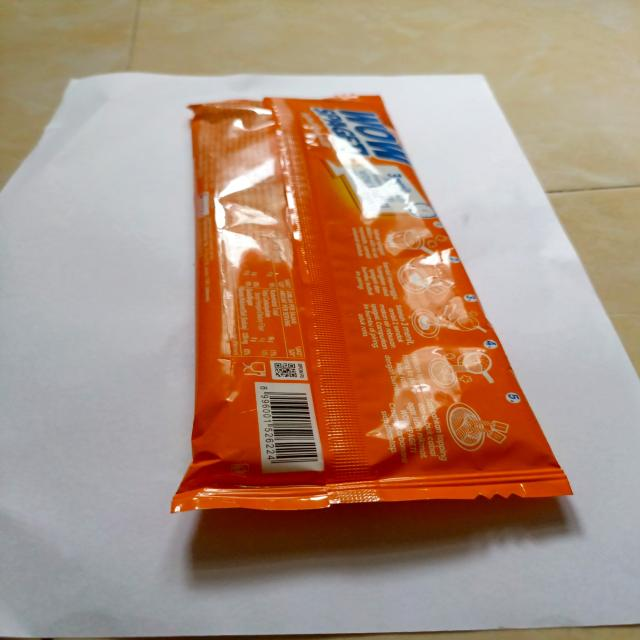indomie-mie-kocok-bandung: (169, 92, 574, 515)
